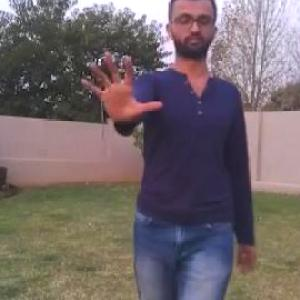follow_hand: (76, 45, 166, 126)
